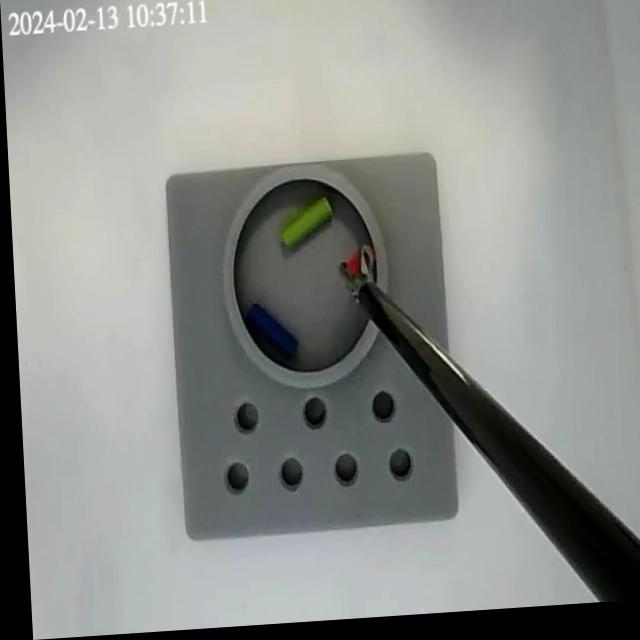EmptyHole: (379, 447, 411, 495), (327, 452, 356, 495), (226, 401, 256, 440), (272, 457, 301, 496), (218, 459, 246, 498), (365, 392, 392, 430), (297, 397, 323, 436)
